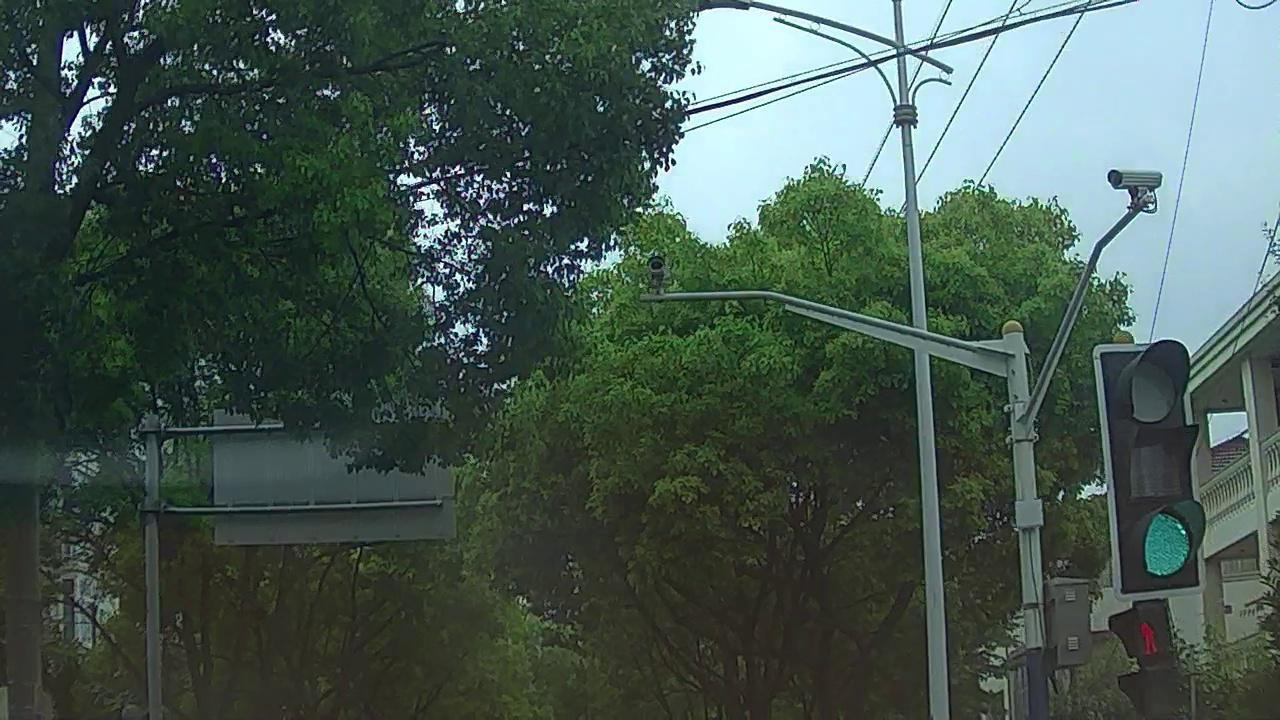traffic_light: (1101, 344, 1199, 587)
